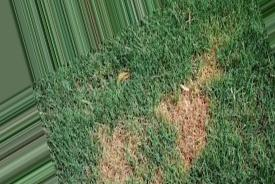patch: (166, 88, 207, 146), (93, 125, 136, 174)
